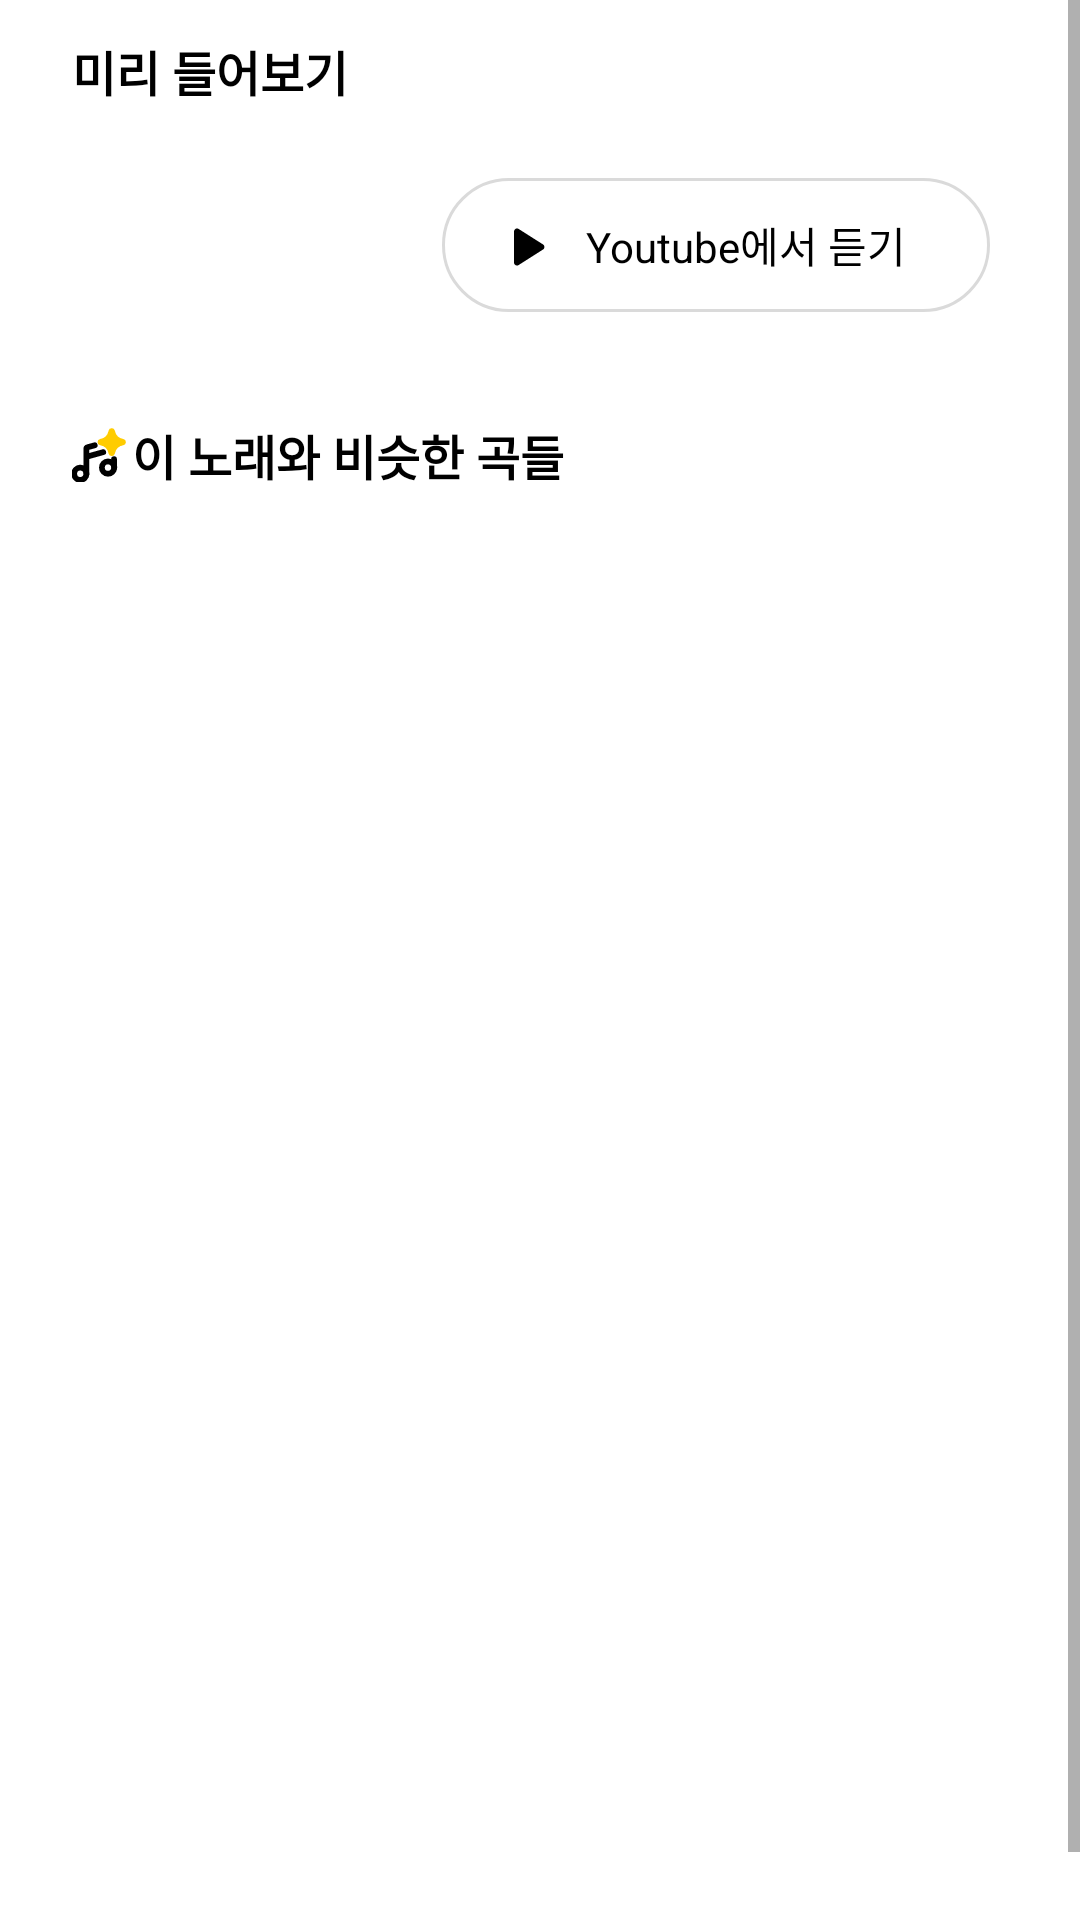

Locate icon controls on the screen. Image size 1080px×1920px, boxes as {"left": x1, "top": y1, "right": x2, "bottom": y2}.
ai music: {"left": 72, "top": 428, "right": 126, "bottom": 482}
play: {"left": 514, "top": 228, "right": 545, "bottom": 266}
